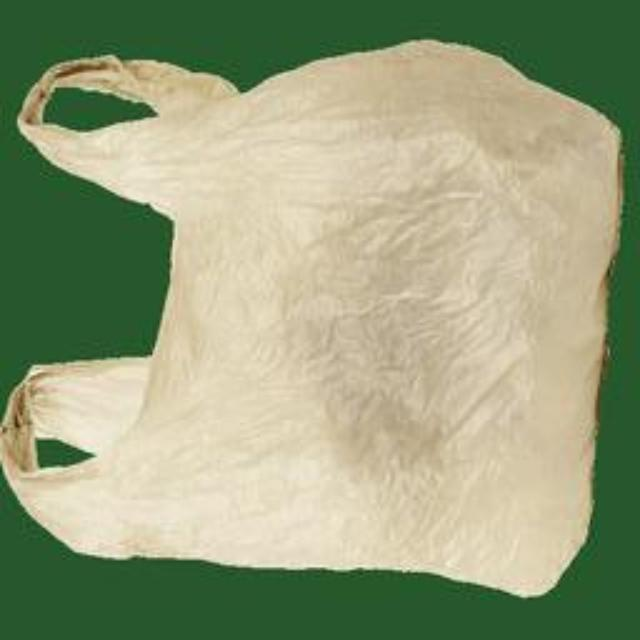Bolsa-de-plastico: (12, 45, 608, 583)
